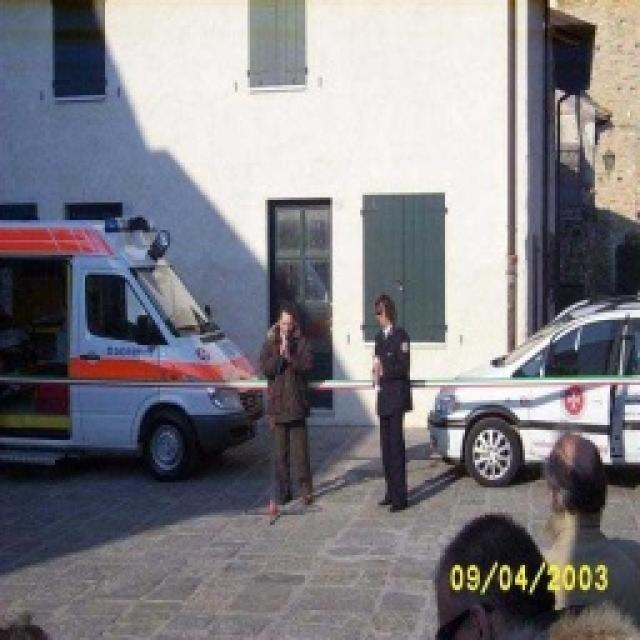emergency-vehicle: (0, 215, 268, 470), (436, 293, 640, 486)
